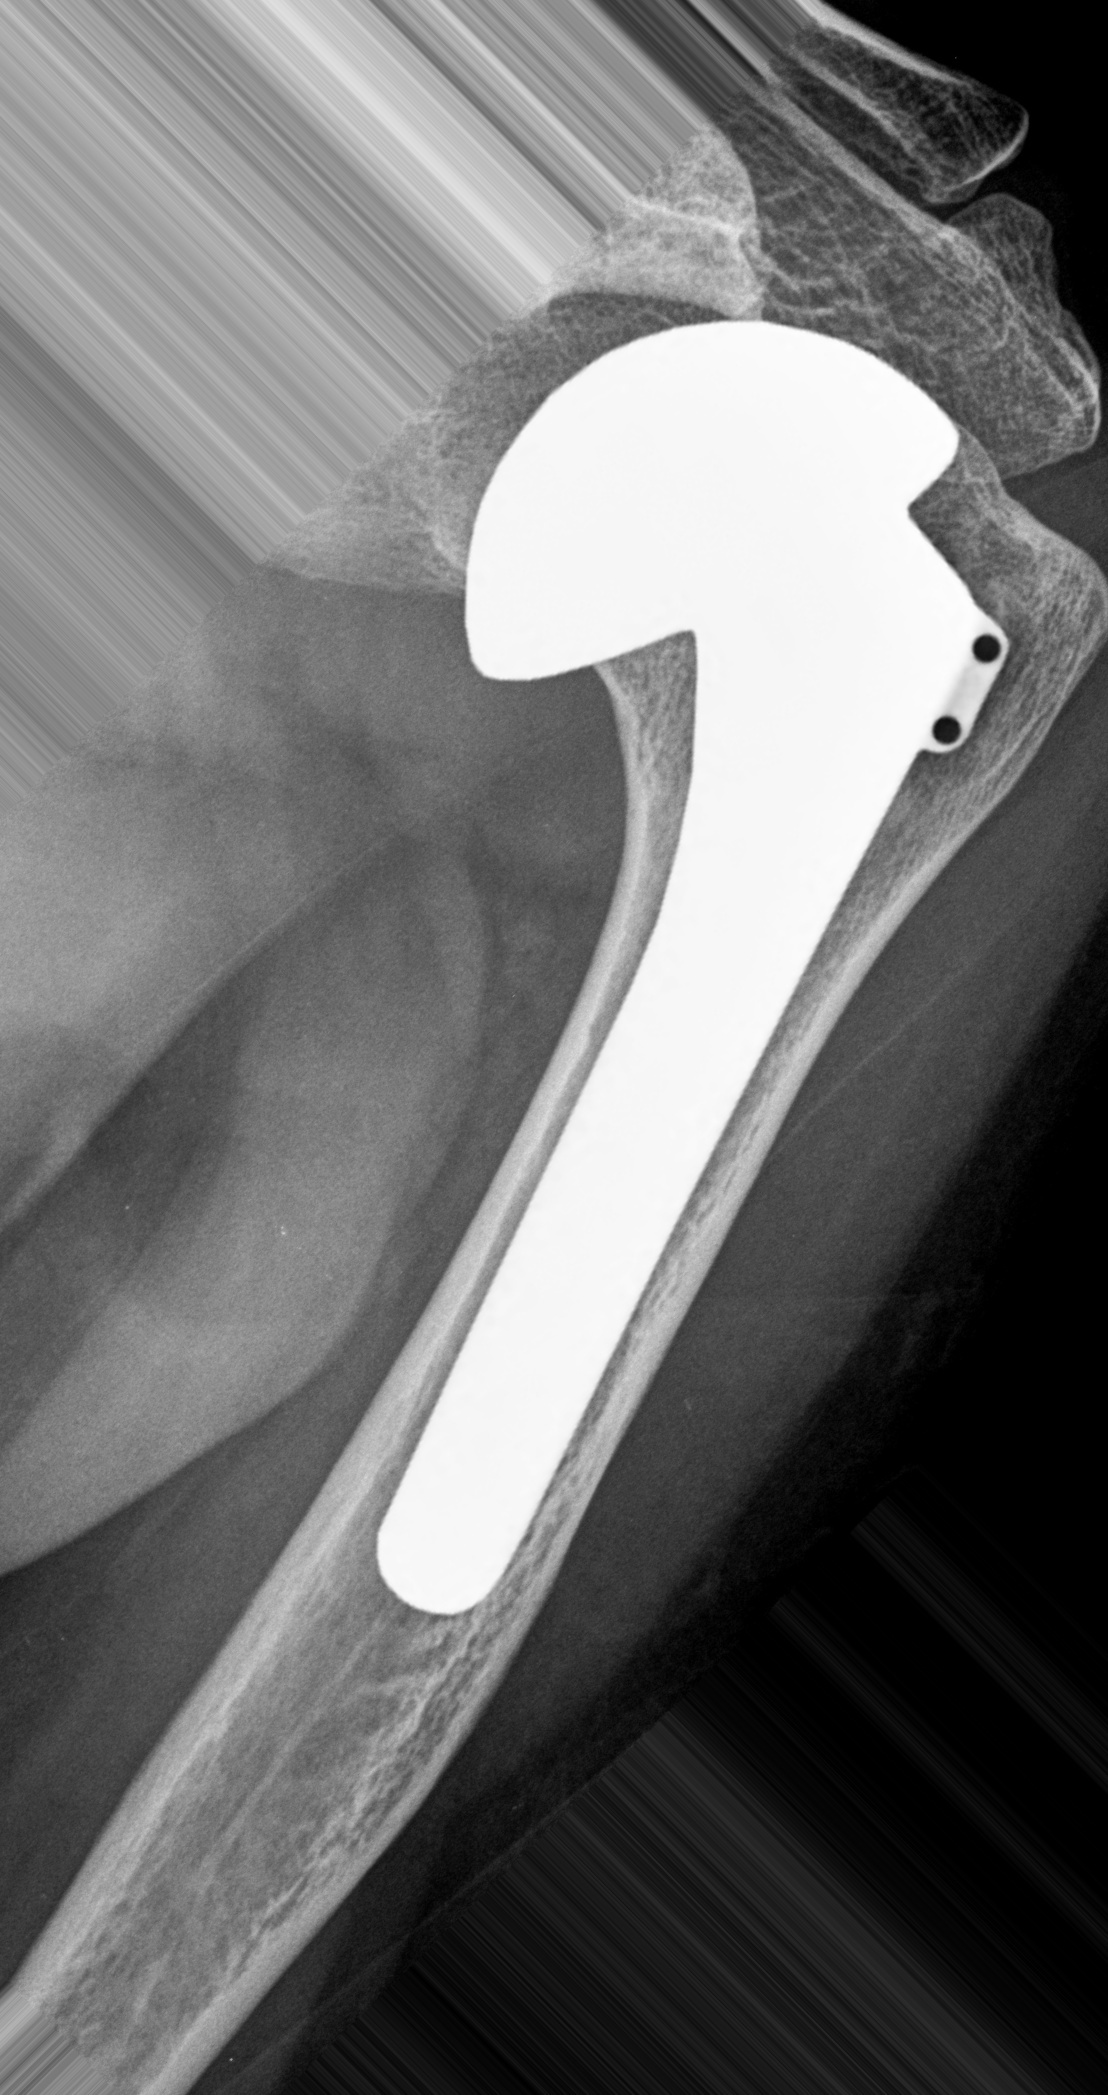Shoulder - AequalisPressfit - Tornier: (447, 312, 1010, 763)
